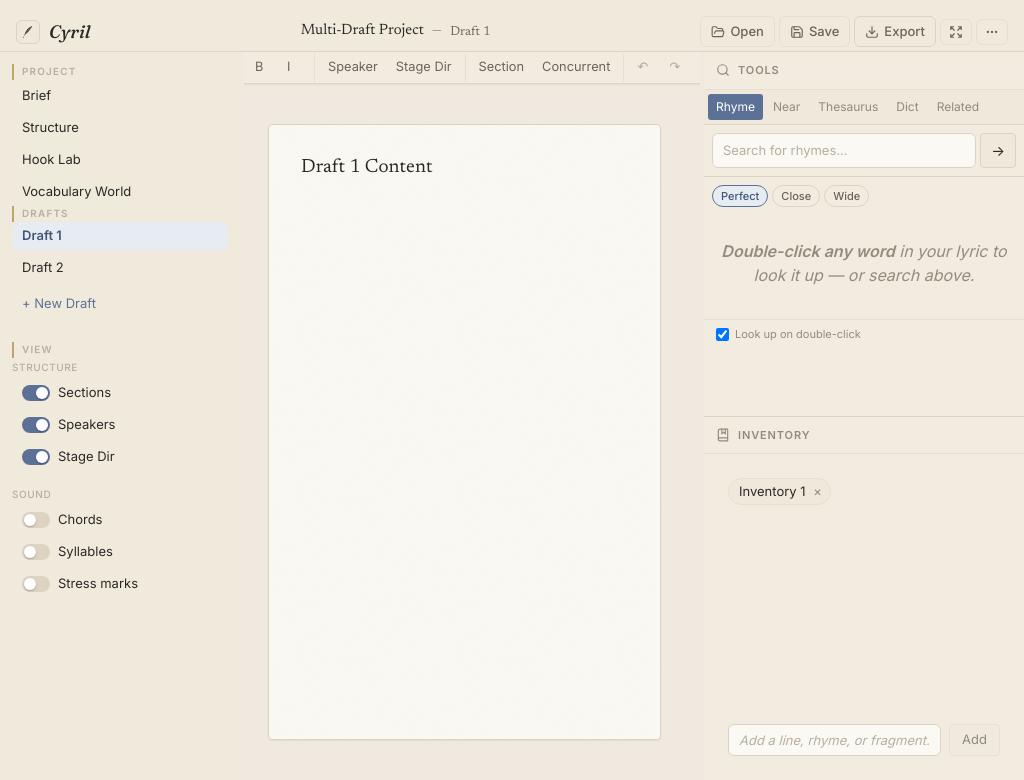
Test: Workspaces and Drafts Integration › T-3.04: Switching drafts updates editor content correctly
This screenshot has width=1024, height=780.
Expected: the text box "Draft 1 Content" is shown, top-left (301, 158), bottom-right (433, 177)
Click Draft 2
Click the button "Draft 2" at (43, 267), box top-left (22, 259), bottom-right (64, 275)
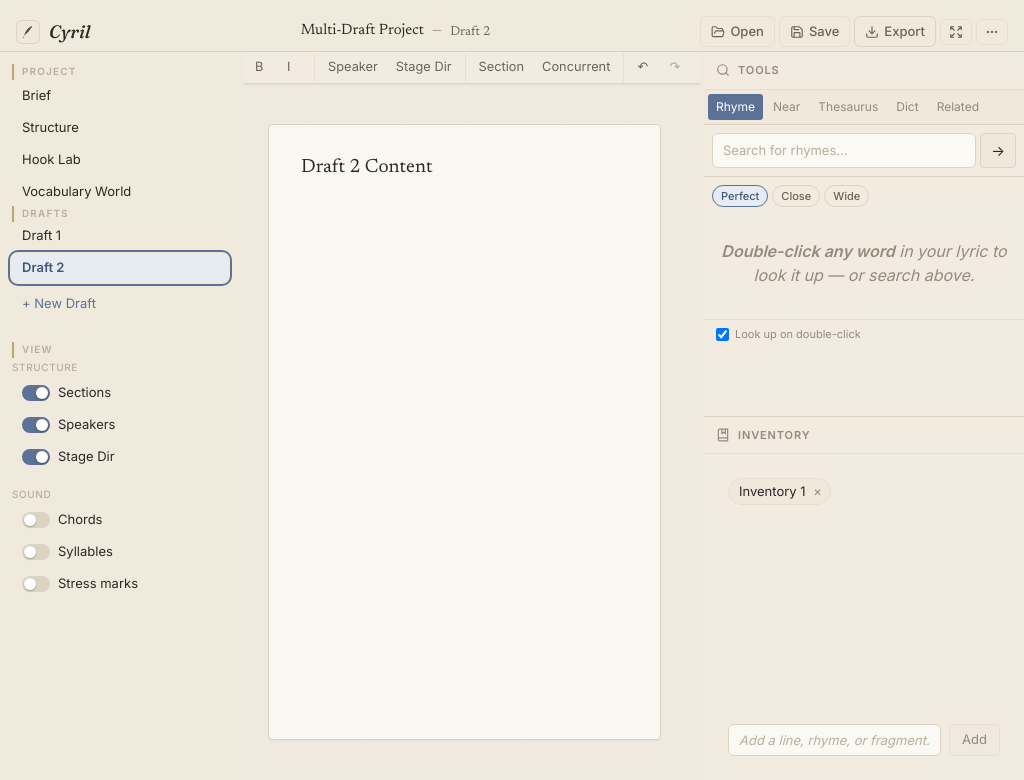
Expected: the text box "Draft 2 Content" is shown, top-left (301, 158), bottom-right (433, 177)
Expected: the text box "Draft 1 Content" is gone
